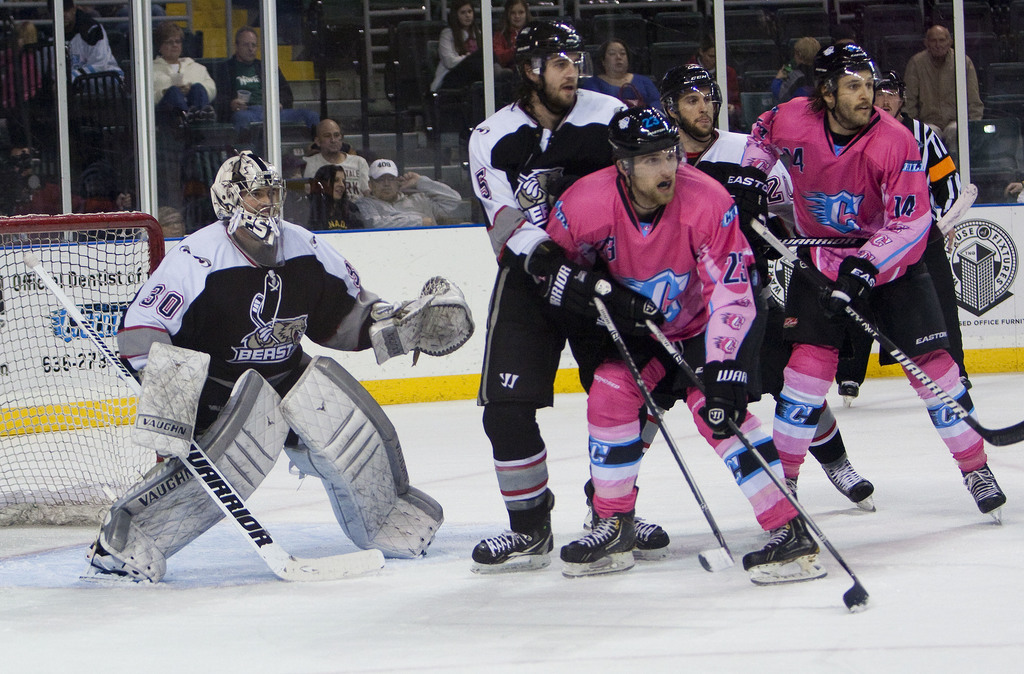Person: (81, 18, 1004, 585), (425, 0, 983, 163), (153, 28, 463, 228)
